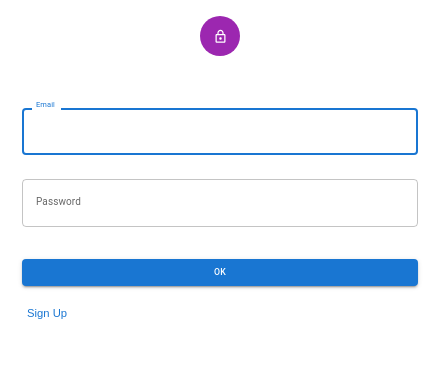
Test case: AuthPage › renders correct components for LogIn in locale En
The image size is (441, 367).
Click the button "OK": (220, 272) [22, 259, 418, 286]
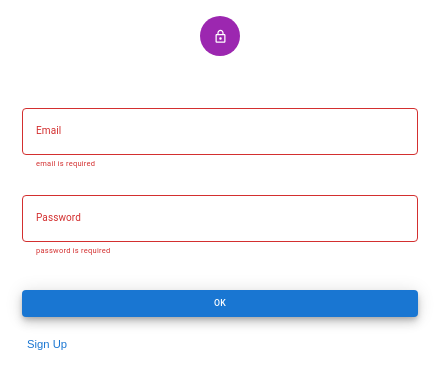
Check: the text "email is required" is shown, box [36, 159, 95, 168]
